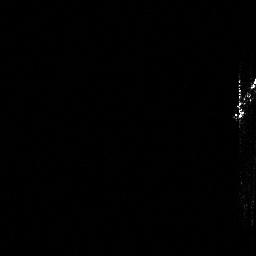ship: (228, 73, 256, 125)
